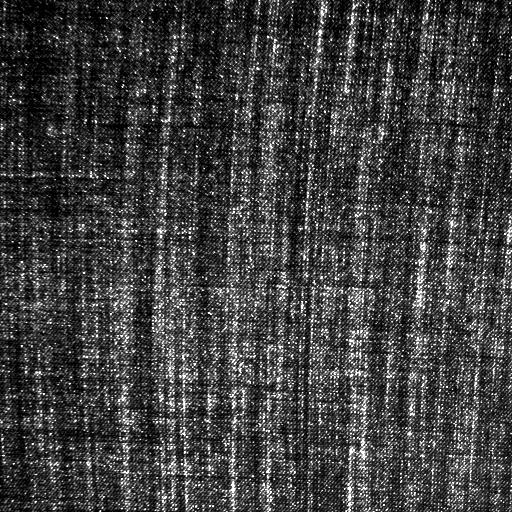fabric_perfect: (5, 4, 503, 506)
